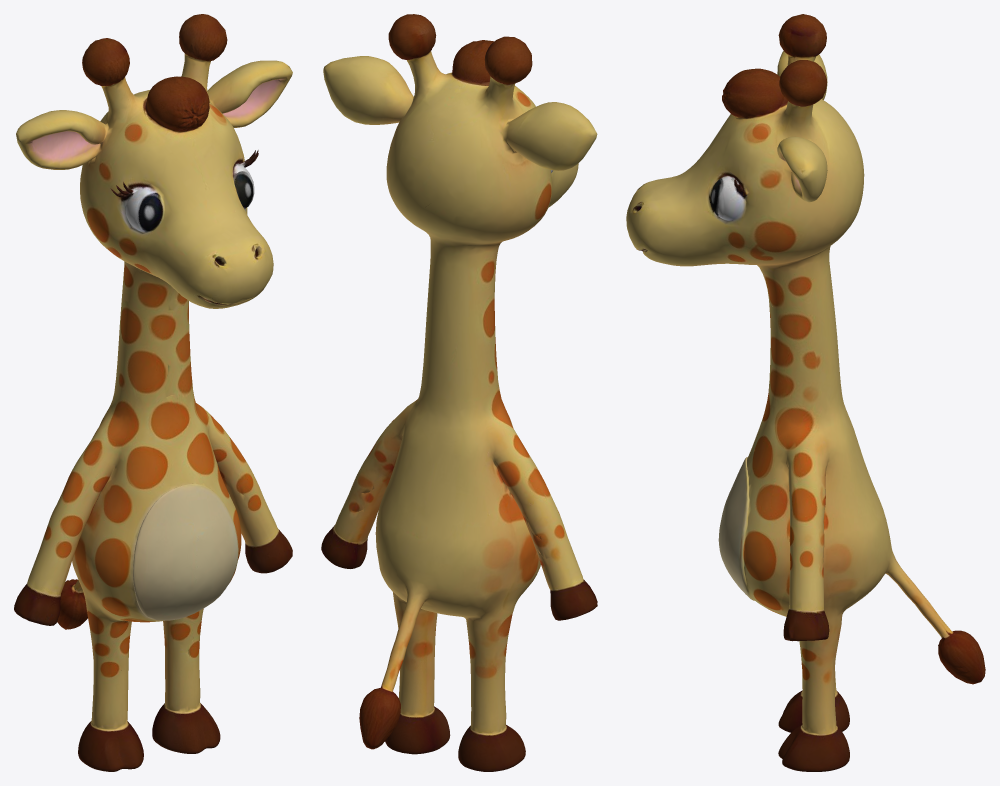
The model's file is giraffe.glb.
3 renders of one model, left to right at view 1: azimuth 30°, elevation 25°; view 2: azimuth 150°, elevation 25°; view 3: azimuth 270°, elevation 25°, orthographic. The views are drawn at different scales.
Parts seen in each view (by area): view 1: tripo_node_86d11527-aafe-473b-874c-94b36b15e6dd; view 2: tripo_node_86d11527-aafe-473b-874c-94b36b15e6dd; view 3: tripo_node_86d11527-aafe-473b-874c-94b36b15e6dd.
Part boxes in pixels (x1,y1,x2,y2): tripo_node_86d11527-aafe-473b-874c-94b36b15e6dd: (14,14,292,771); tripo_node_86d11527-aafe-473b-874c-94b36b15e6dd: (321,14,597,771); tripo_node_86d11527-aafe-473b-874c-94b36b15e6dd: (626,14,985,771).
Size of the model in its own units: 0.3878 by 0.9793 by 0.4528.
Materials: 1 (1 with a texture image).
